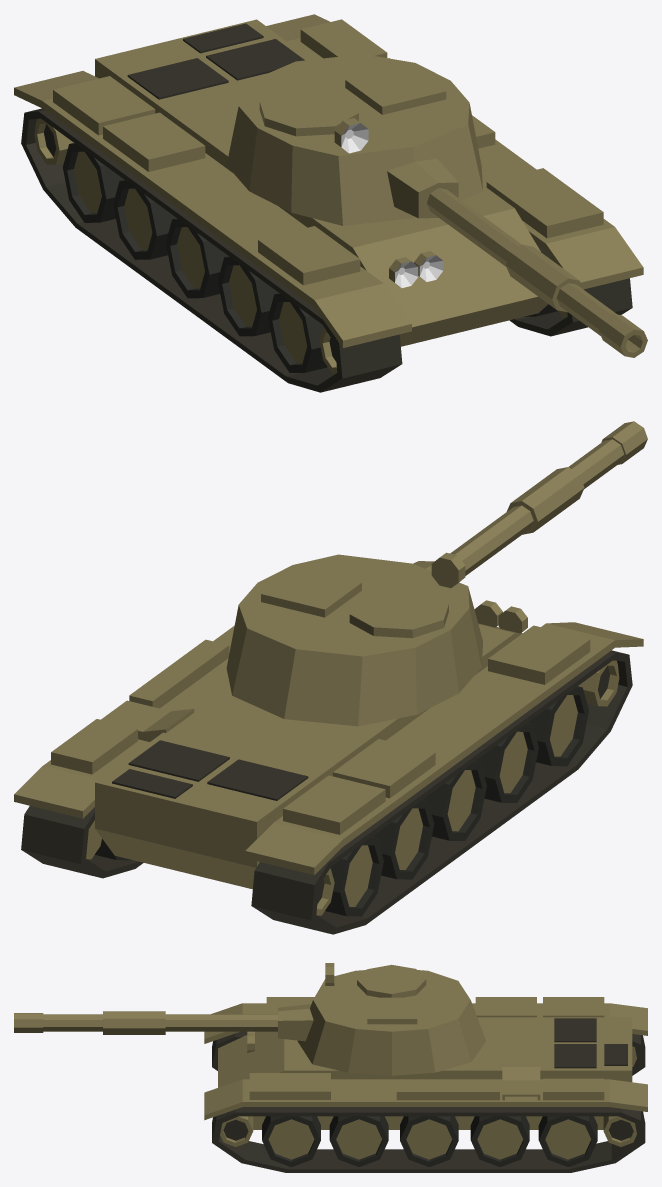
The model's file is cavalry.glb.
3 renders of one model, top to bottom at view 1: azimuth 30°, elevation 25°; view 2: azimuth 150°, elevation 25°; view 3: azimuth 270°, elevation 25°, orthographic. The views are drawn at different scales.
Visible parts, largest first — view 1: Tank_0, Turret_0, Compartments_0, Treads_0, Barrel_0, Treads_2, Treads_1, Box_0, Grill_0, BodyLamp_1, TurretLamp_1; view 2: Tank_0, Turret_0, Treads_0, Compartments_0, Treads_2, Treads_1, Box_0, Barrel_0, Grill_0, BodyLamp_0, TurretLamp_0; view 3: Tank_0, Turret_0, Treads_0, Compartments_0, Treads_1, Treads_2, Barrel_0, Box_0, Grill_0.
Boxes of the visible parts, x1=… form: Tank_0: x1=14, y1=14, x2=643, y2=347; Turret_0: x1=226, y1=54, x2=483, y2=225; Compartments_0: x1=53, y1=19, x2=603, y2=285; Treads_0: x1=21, y1=108, x2=632, y2=392; Barrel_0: x1=387, y1=159, x2=647, y2=357; Treads_2: x1=62, y1=143, x2=557, y2=372; Treads_1: x1=34, y1=118, x2=567, y2=373; Box_0: x1=259, y1=64, x2=446, y2=136; Grill_0: x1=127, y1=23, x2=304, y2=99; BodyLamp_1: x1=395, y1=255, x2=443, y2=287; TurretLamp_1: x1=341, y1=123, x2=368, y2=153; Tank_0: x1=14, y1=622, x2=643, y2=889; Turret_0: x1=226, y1=554, x2=482, y2=726; Treads_0: x1=21, y1=650, x2=632, y2=934; Compartments_0: x1=51, y1=625, x2=590, y2=834; Treads_2: x1=95, y1=686, x2=588, y2=916; Treads_1: x1=86, y1=660, x2=619, y2=915; Box_0: x1=261, y1=567, x2=448, y2=638; Barrel_0: x1=413, y1=421, x2=647, y2=575; Grill_0: x1=112, y1=740, x2=308, y2=800; BodyLamp_0: x1=474, y1=600, x2=527, y2=633; TurretLamp_0: x1=431, y1=552, x2=465, y2=588; Tank_0: x1=204, y1=1003, x2=647, y2=1129; Turret_0: x1=297, y1=970, x2=486, y2=1075; Treads_0: x1=212, y1=1031, x2=645, y2=1172; Compartments_0: x1=249, y1=997, x2=604, y2=1100; Treads_1: x1=220, y1=1046, x2=636, y2=1159; Treads_2: x1=262, y1=1116, x2=597, y2=1166; Barrel_0: x1=14, y1=1004, x2=313, y2=1041; Box_0: x1=357, y1=964, x2=426, y2=1024; Grill_0: x1=554, y1=1018, x2=627, y2=1068.
Size of the model in its own units: 3.66 by 2.49 by 9.92.
